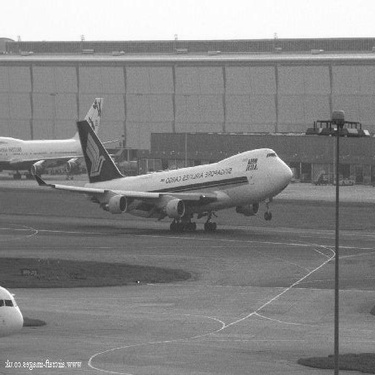airplane: (45, 103, 296, 232), (1, 94, 106, 170), (2, 279, 27, 343)
